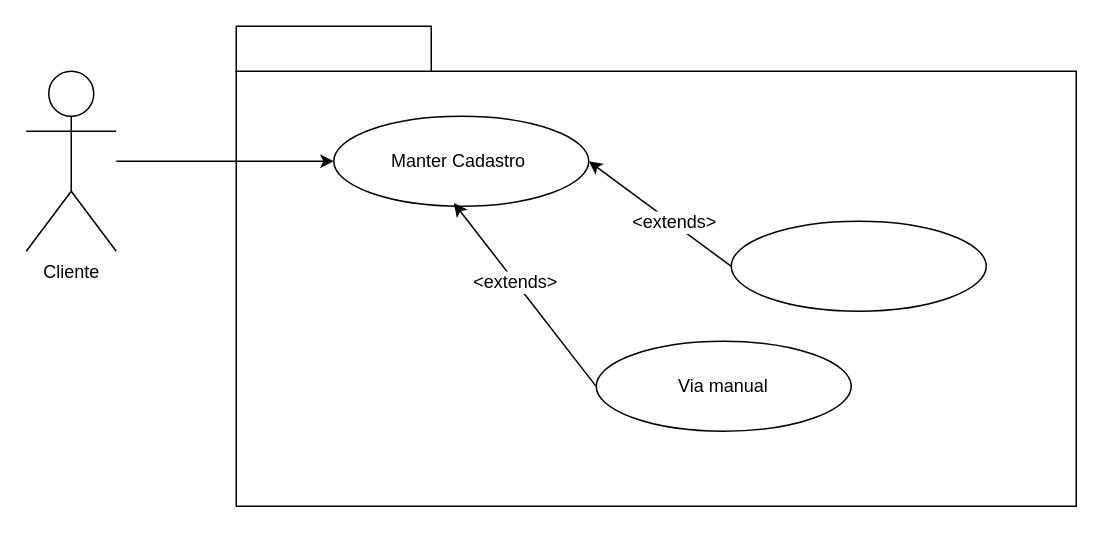
This 1103x533 diagram has some shape labels left out. The shapes that lost their labels are listed below. From the top down, each one's centre as x and y in pixels, then its label:
At [333,48]: "TELA DE CADASTRO".
At [858,265]: "Via redes sociais".
